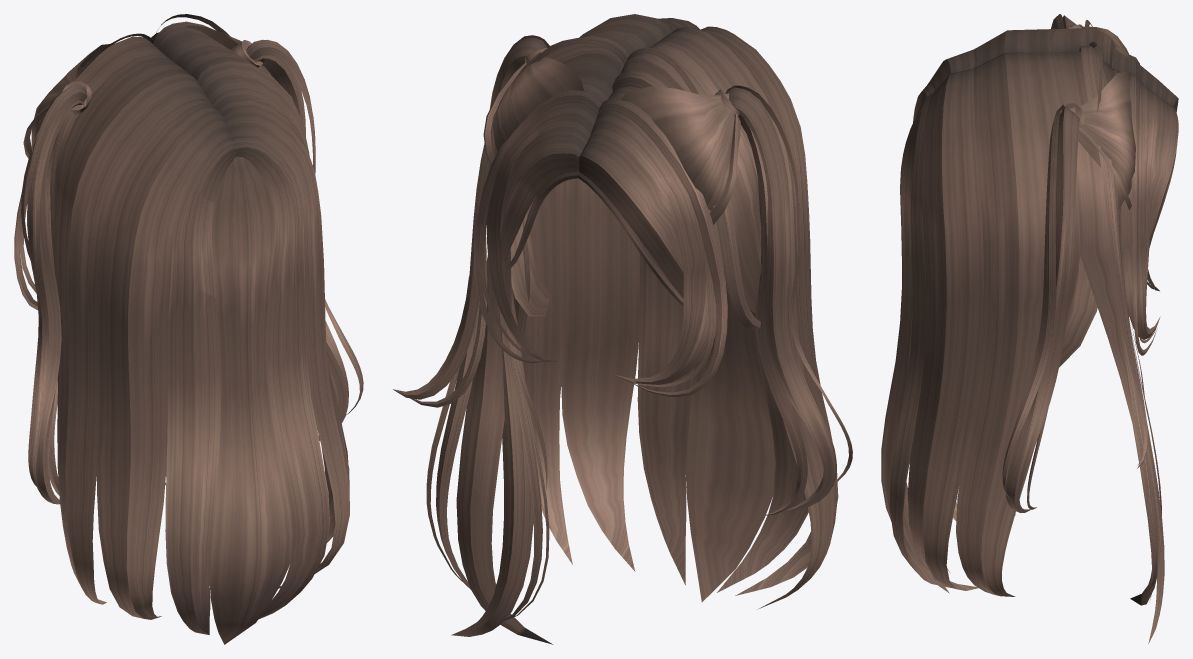
Rendered from acc.glb.
The picture shows the model from 3 angles, left to right: view 1: azimuth 30°, elevation 25°; view 2: azimuth 150°, elevation 25°; view 3: azimuth 270°, elevation 25°; orthographic projection. The views are drawn at different scales.
Parts seen in each view (by area): view 1: Handle; view 2: Handle; view 3: Handle.
Boxes of the visible parts, x1,y1,x2,y2 form: Handle: (14, 14, 363, 644); Handle: (393, 14, 852, 644); Handle: (881, 14, 1178, 643).
Bounding box in the file's own units: 2.18 × 3.3 × 1.59.
1 material, 1 textured.
